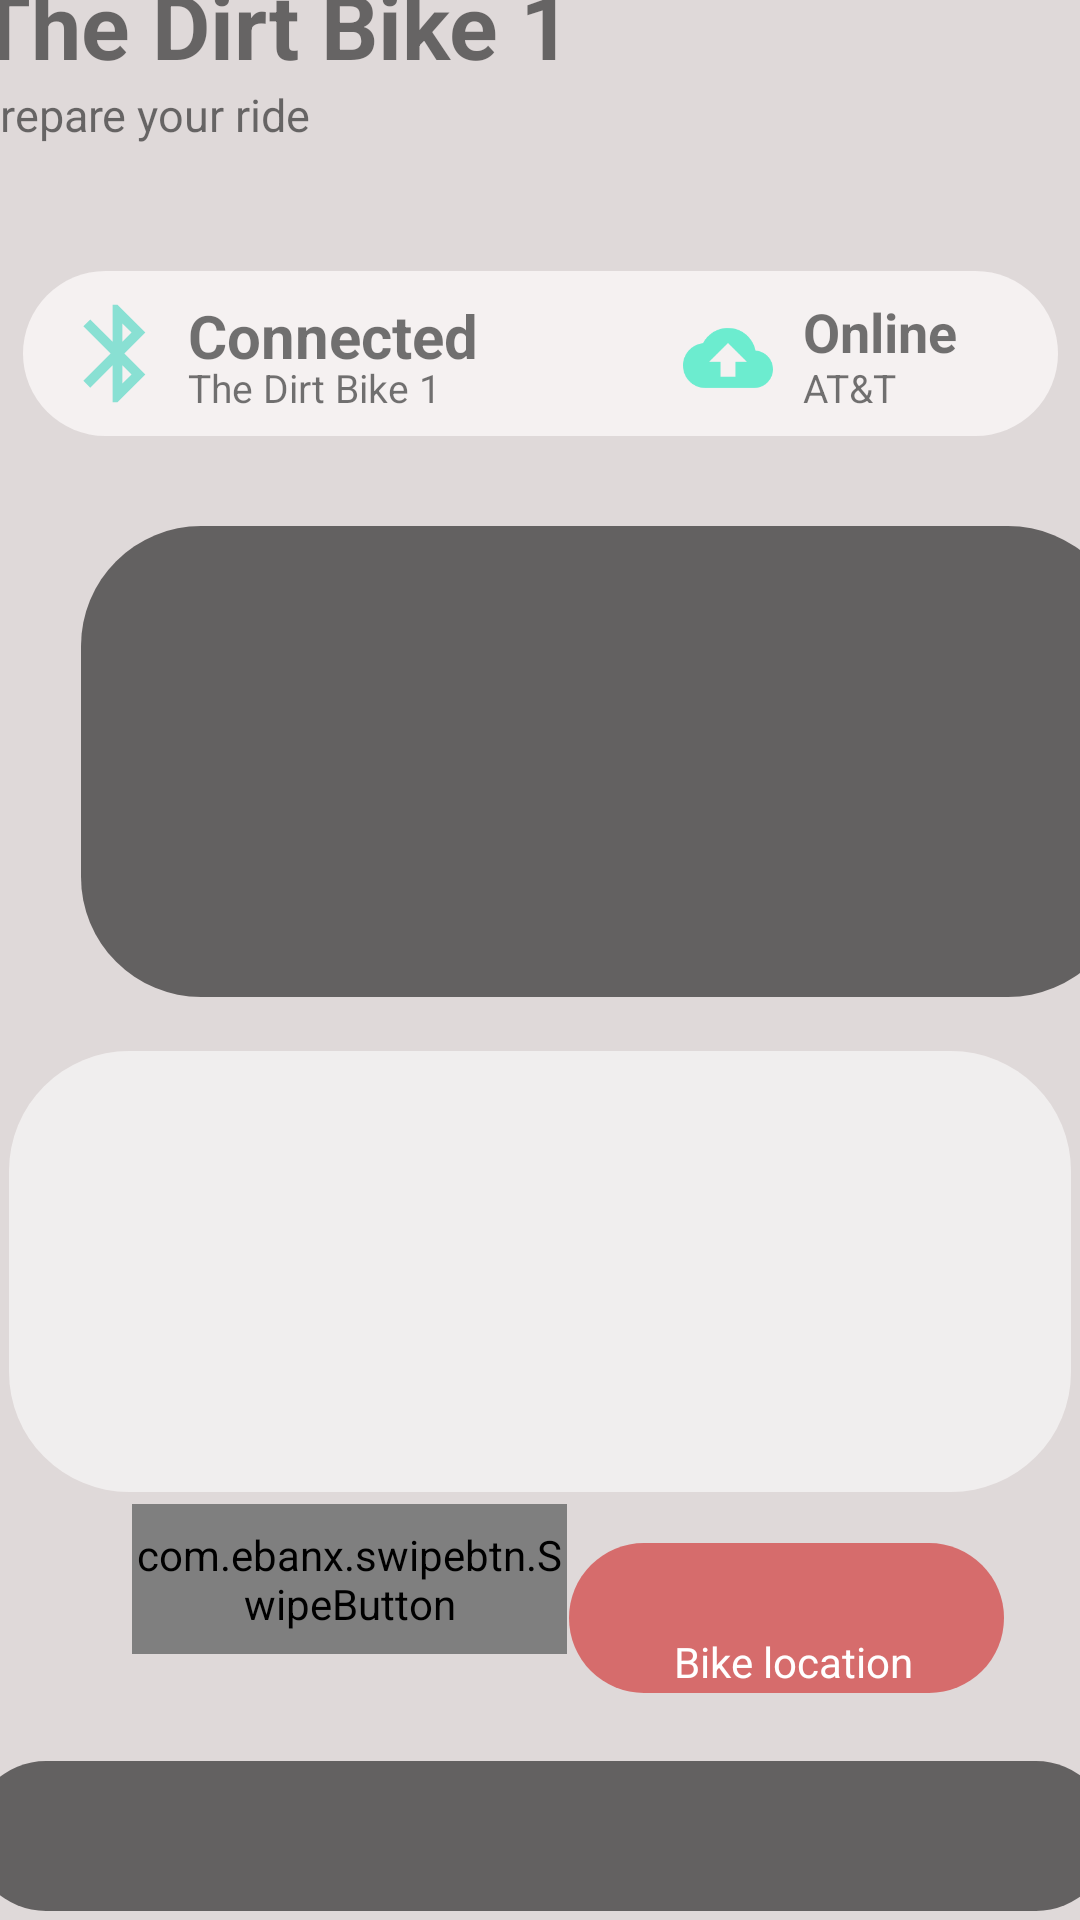

Named icons in this screenshot (1080x1920) and their centers, (x,y):
cloud upload: (728,358)
